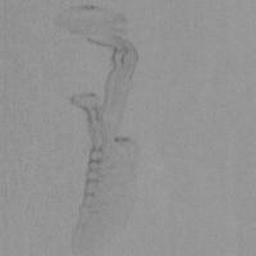Water spot: (55, 3, 142, 256)
